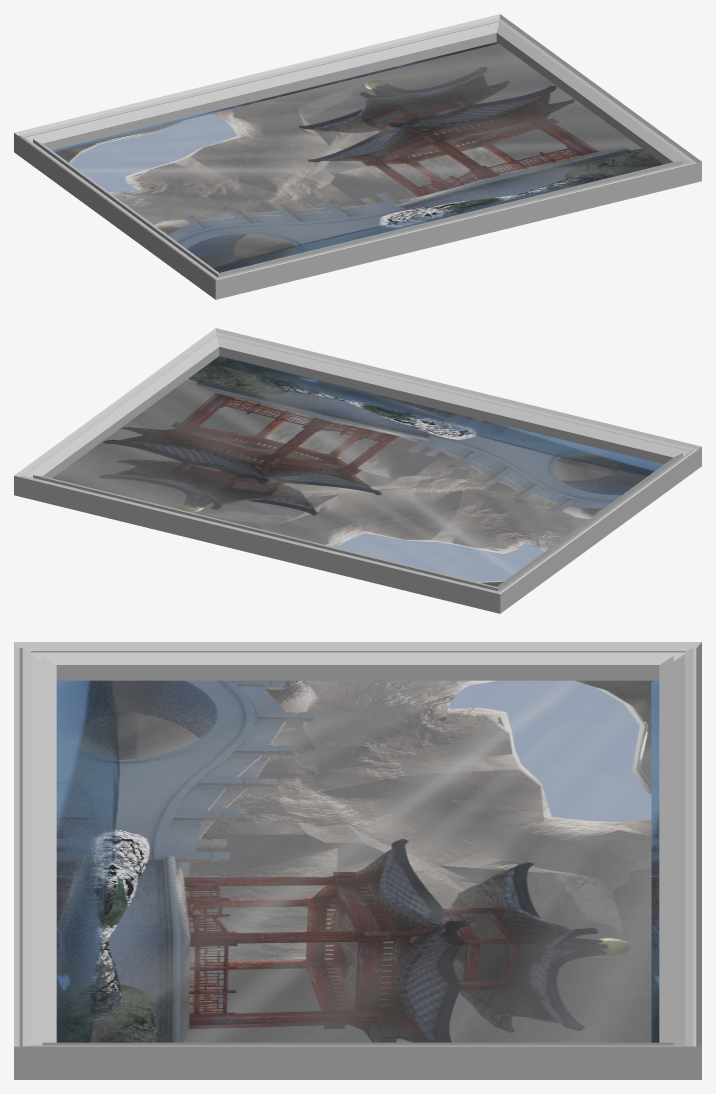
File: painting3.fbx
3 renders of one model, top to bottom at view 1: azimuth 30°, elevation 25°; view 2: azimuth 150°, elevation 25°; view 3: azimuth 270°, elevation 25°, orthographic. The views are drawn at different scales.
Visible parts, largest first — view 1: Plane.009; view 2: Plane.009; view 3: Plane.009.
Boxes of the visible parts, x1,y1,x2,y2 form: Plane.009: [14, 14, 701, 299]; Plane.009: [14, 328, 701, 613]; Plane.009: [14, 642, 701, 1079].
Size of the model in its own units: 0.82 by 0.0315 by 0.5893.
